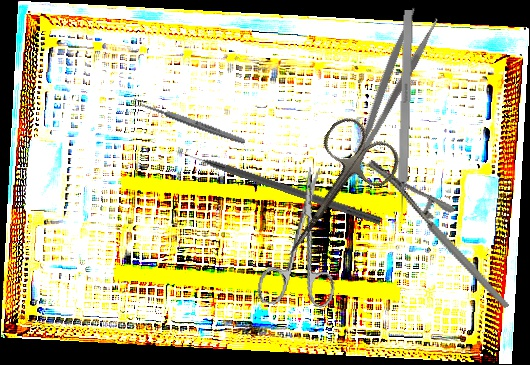Dressing Forceps: (327, 5, 442, 181)
Hook Surgical: (175, 145, 383, 225), (396, 9, 414, 221)
Iris Scissors: (256, 110, 407, 278), (255, 161, 355, 315)
Needle Holder: (365, 133, 510, 336)
Surgical Spoon: (131, 97, 247, 146)
